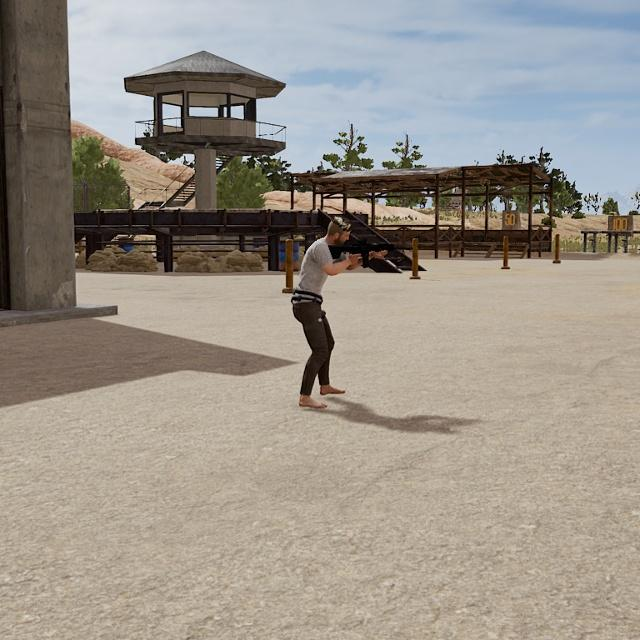head: (325, 214, 353, 249)
people: (290, 215, 358, 410)
